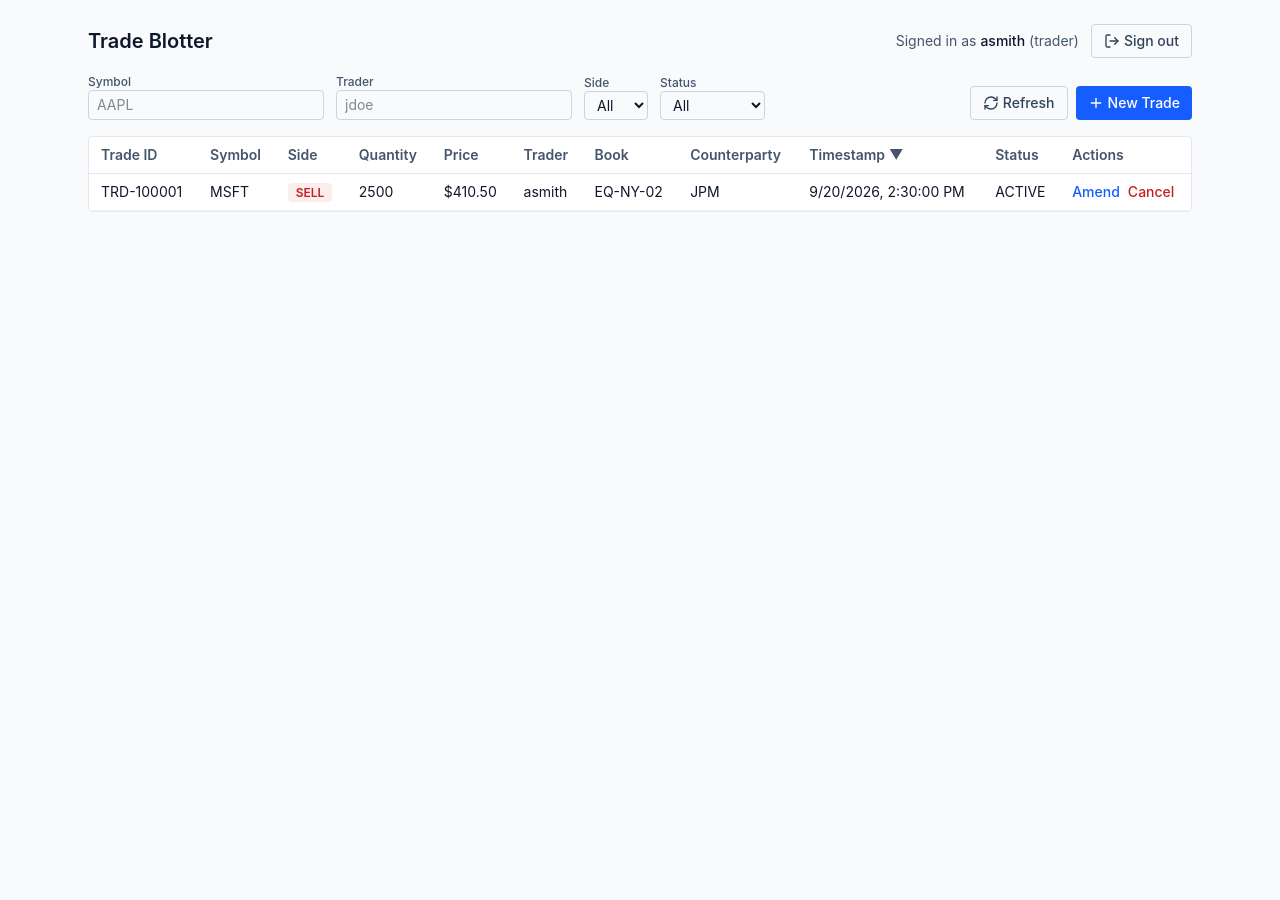
Test case: TradeBlotterPage toolbar and live data › toasts a failed Refresh and keeps the rows already shown
This screenshot has width=1280, height=900.
Expected: the text "TRD-100001" is shown, [89,174,198,210]
Click the button with aria-label "Refresh trades" at point(1019, 103), box [970,86,1068,120]
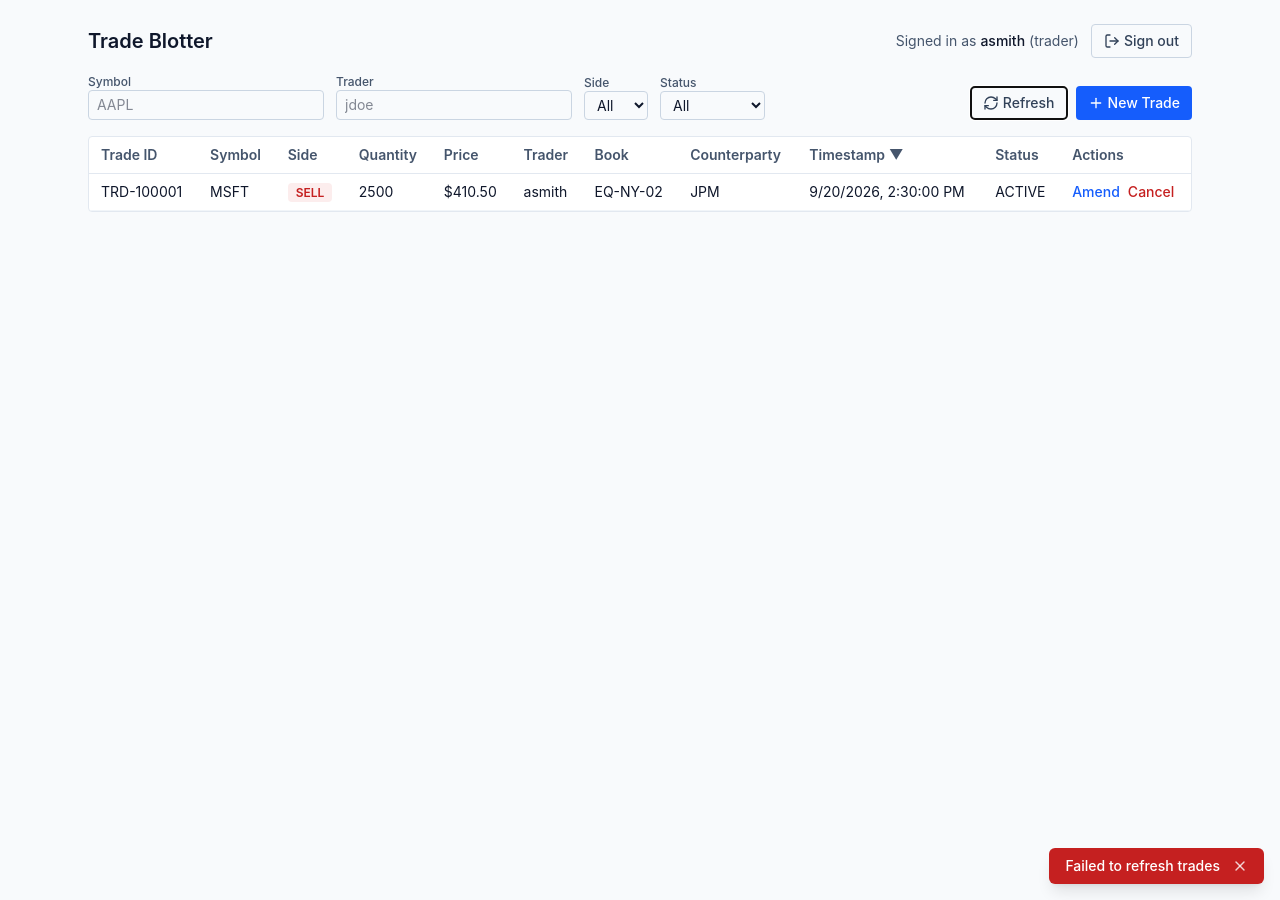
Expected: the text "TRD-100001" is shown, [89,174,198,210]
Result: the text "Failed to refresh trades" is shown at [1065,856,1220,876]
